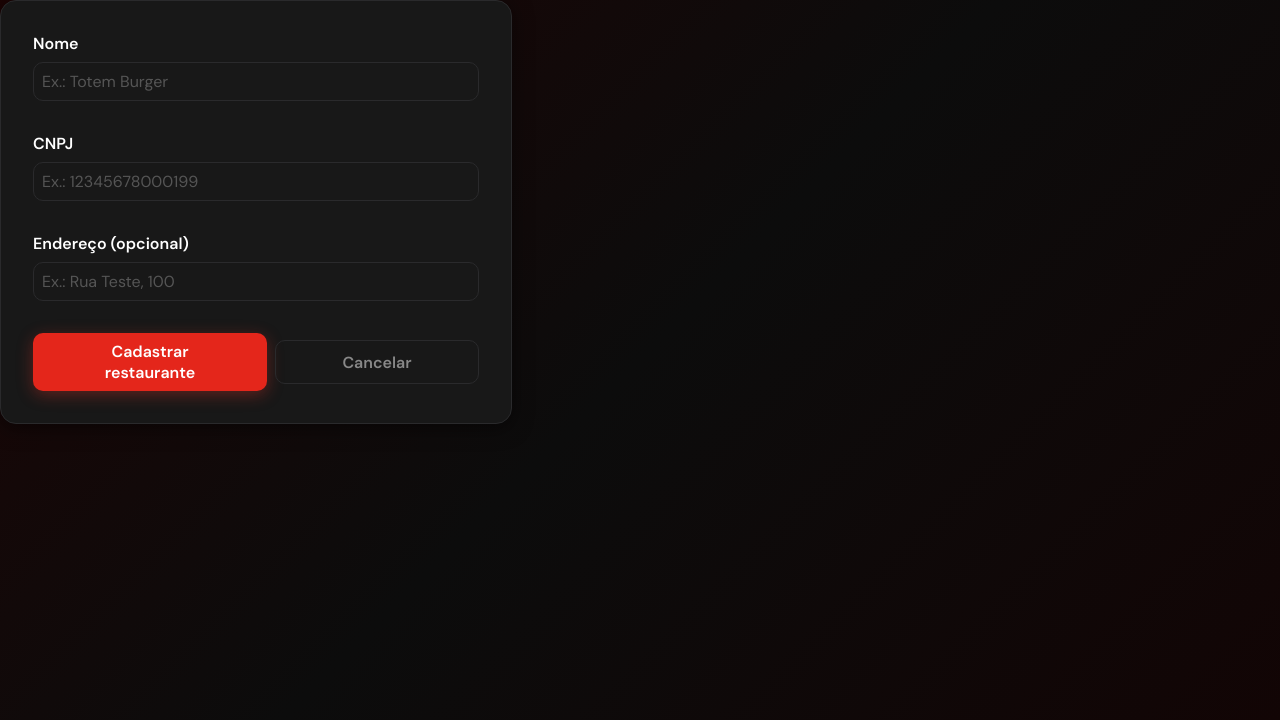
Test case: RestauranteForm › CNPJ com menos de 14 dígitos mostra mensagem específica
The width and height of the screenshot is (1280, 720).
In the field labelled "Nome": [256, 82] box [33,62,479,101], type "Totem Burger"
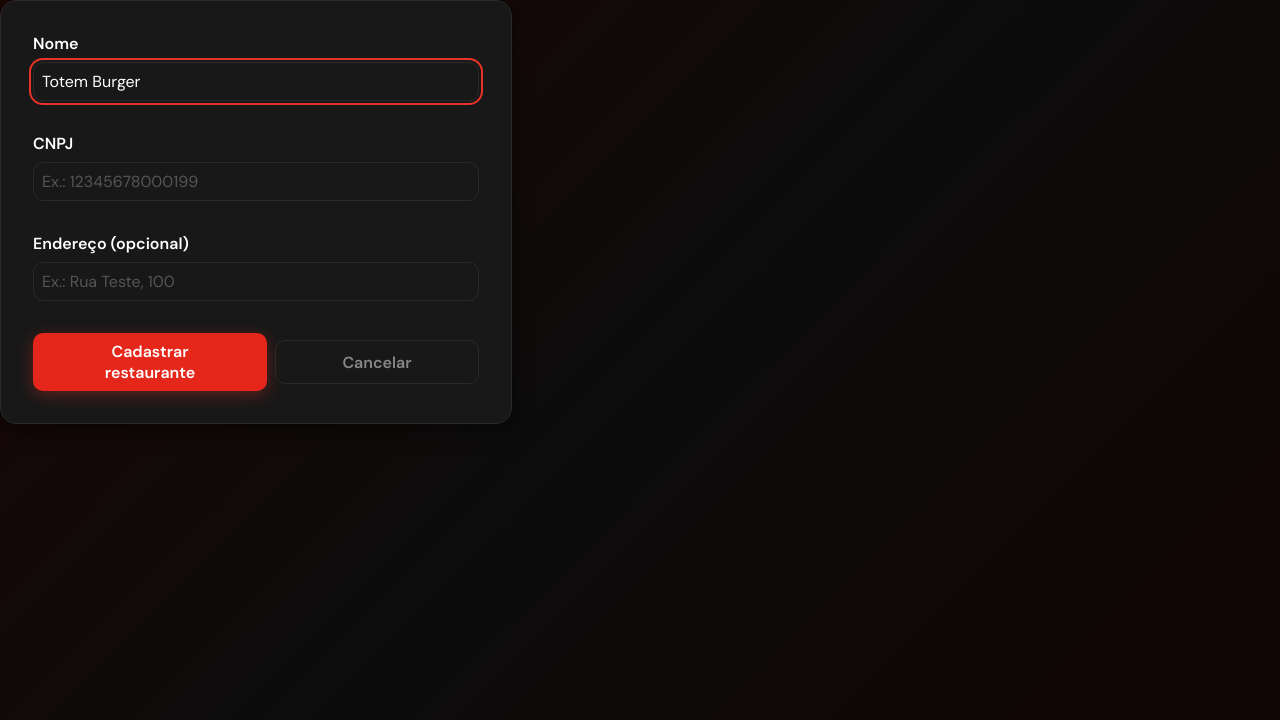
In the field labelled "CNPJ": [256, 182] box [33,162,479,201], type "123"
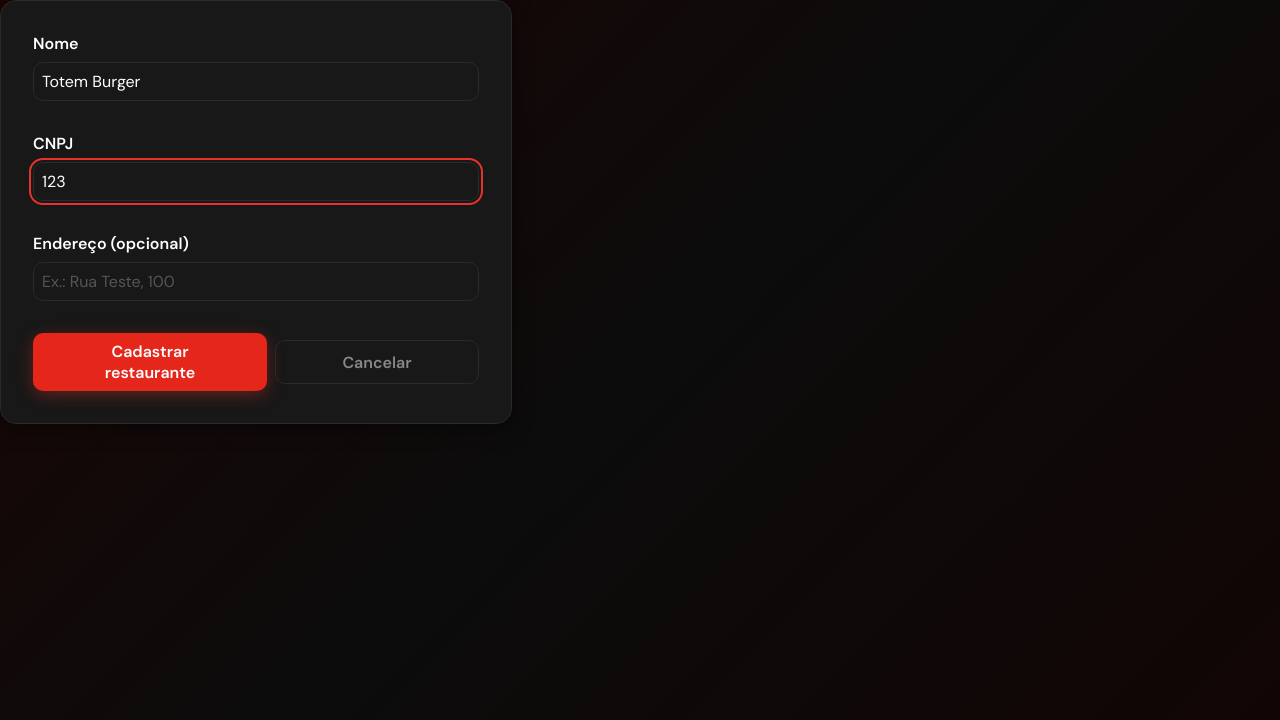
Click the button "Cadastrar restaurante": [150, 362] box [33,333,267,391]
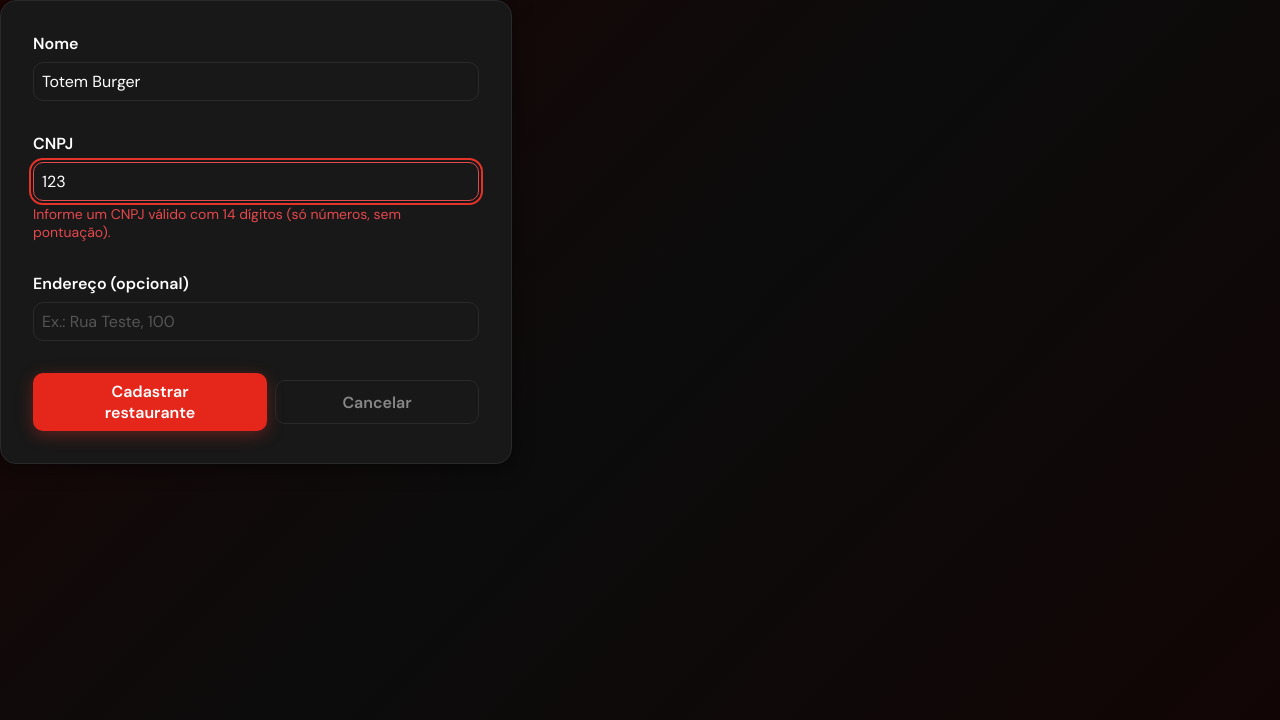
Expected: the text "CNPJ válido com 14 dígitos" is shown, [33,205,401,241]
